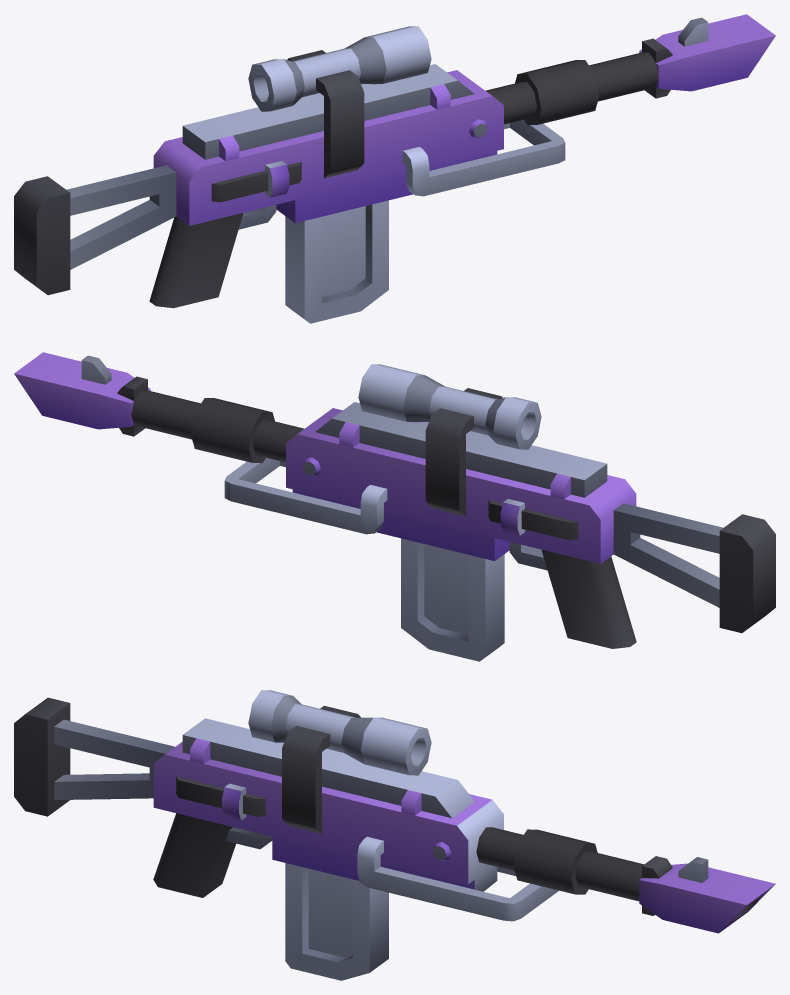
Rendered from Blaster_Rail.obj.
3 views of the same model, one above another, from view 1: azimuth 30°, elevation 25°; view 2: azimuth 150°, elevation 25°; view 3: azimuth 330°, elevation 25° (orthographic).
Visible parts, largest first — view 1: blaster-f, scope, magazine; view 2: blaster-f, scope, magazine; view 3: blaster-f, scope, magazine.
Boxes of the visible parts, box(x1,y1,x2,y2) form: blaster-f: box(14, 14, 775, 308); scope: box(248, 26, 431, 178); magazine: box(285, 200, 388, 323); blaster-f: box(14, 352, 775, 648); scope: box(358, 364, 541, 516); magazine: box(401, 538, 504, 661); blaster-f: box(14, 697, 775, 933); scope: box(248, 690, 431, 833); magazine: box(285, 863, 388, 980).
Bounding box in the file's own units: 1.31 × 0.445 × 0.17.
1 material, 1 textured.
